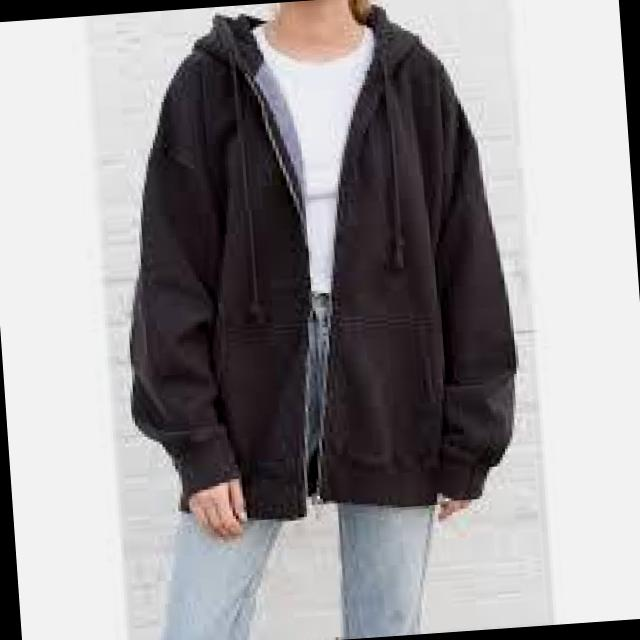jacket: (94, 0, 548, 549)
